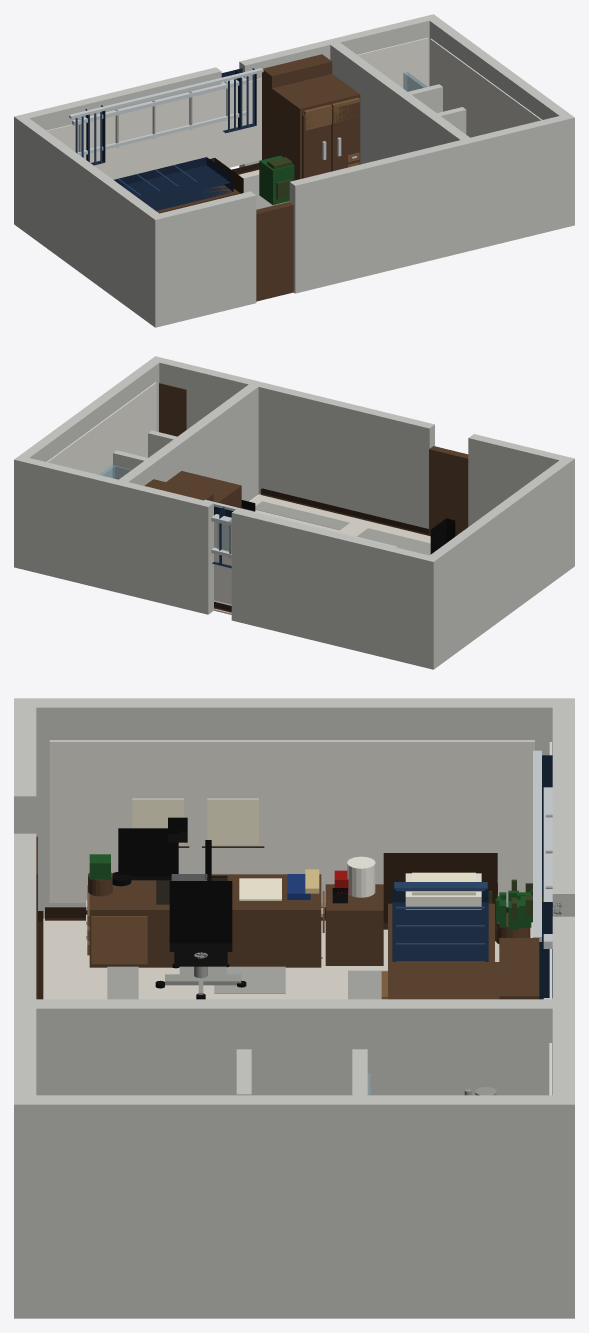
Rendered from manga_room_reference.dae.
The picture shows the model from 3 angles, top to bottom: view 1: azimuth 30°, elevation 25°; view 2: azimuth 150°, elevation 25°; view 3: azimuth 270°, elevation 25°; orthographic projection. The views are drawn at different scales.
Visible parts, largest first — view 1: manga_room_reference; view 2: manga_room_reference; view 3: manga_room_reference.
Part boxes in pixels (left/top/right/bottom): manga_room_reference: left=14, top=14, right=574, bottom=327; manga_room_reference: left=14, top=356, right=574, bottom=669; manga_room_reference: left=14, top=698, right=574, bottom=1318.
Size of the model in its own units: 10.8 by 6.3 by 2.65.
